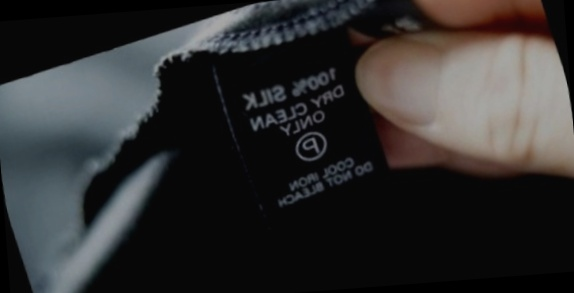dry_clean_any_solvent_except_trichloroethylene: (285, 122, 335, 170)
